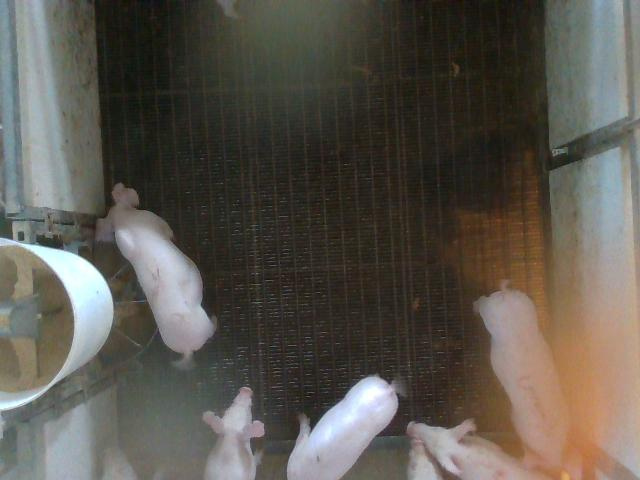pig-3: (474, 286, 570, 472)
